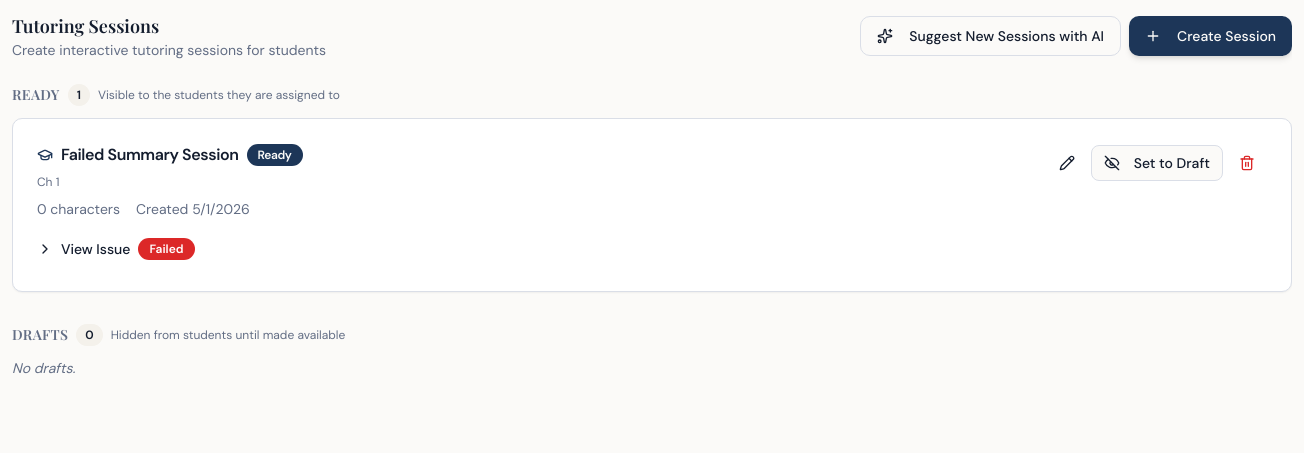
it: StudySessionManager › shows the View Issue collapsible when summary generation failed
Check: the text "Failed Summary Session" is shown, box 61,143 -> 239,167
Check: the text "Failed" is shown, box 138,238 -> 195,260
Click the text "View Issue".
click(96, 249)  # box 61,239 -> 130,259
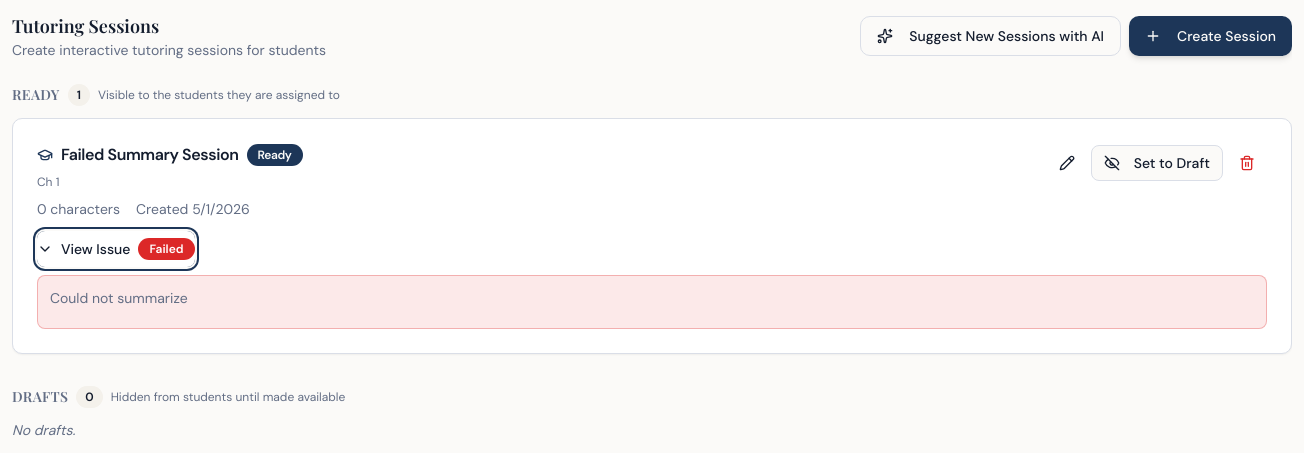
Check: the text "Could not summarize" is shown, box 50,289 -> 188,307
